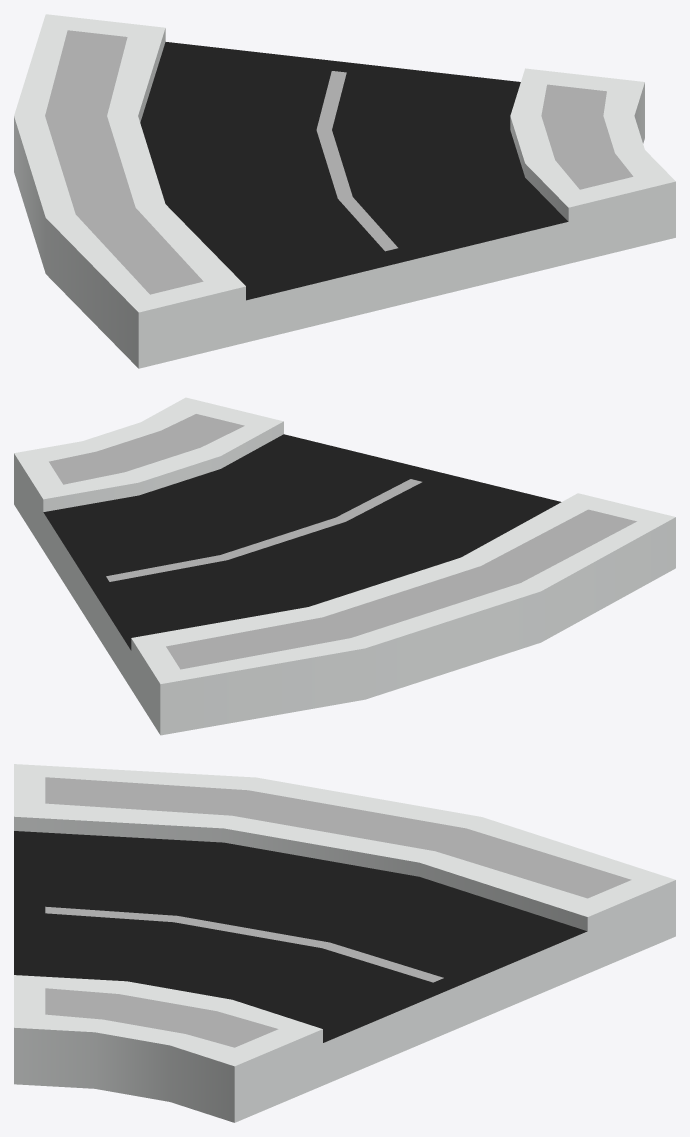
Rendered from duong cong.fbx.
3 renders of one model, top to bottom at view 1: azimuth 30°, elevation 25°; view 2: azimuth 150°, elevation 25°; view 3: azimuth 270°, elevation 25°, orthographic. The views are drawn at different scales.
Parts seen in each view (by area): view 1: duogn_cong; view 2: duogn_cong; view 3: duogn_cong.
Boxes of the visible parts, x1,y1,x2,y2 form: duogn_cong: (14,14,675,368); duogn_cong: (14,397,675,735); duogn_cong: (14,764,675,1122).
Size of the model in its own units: 22.93 by 2 by 21.21.
Materials: 1 (1 with a texture image).
